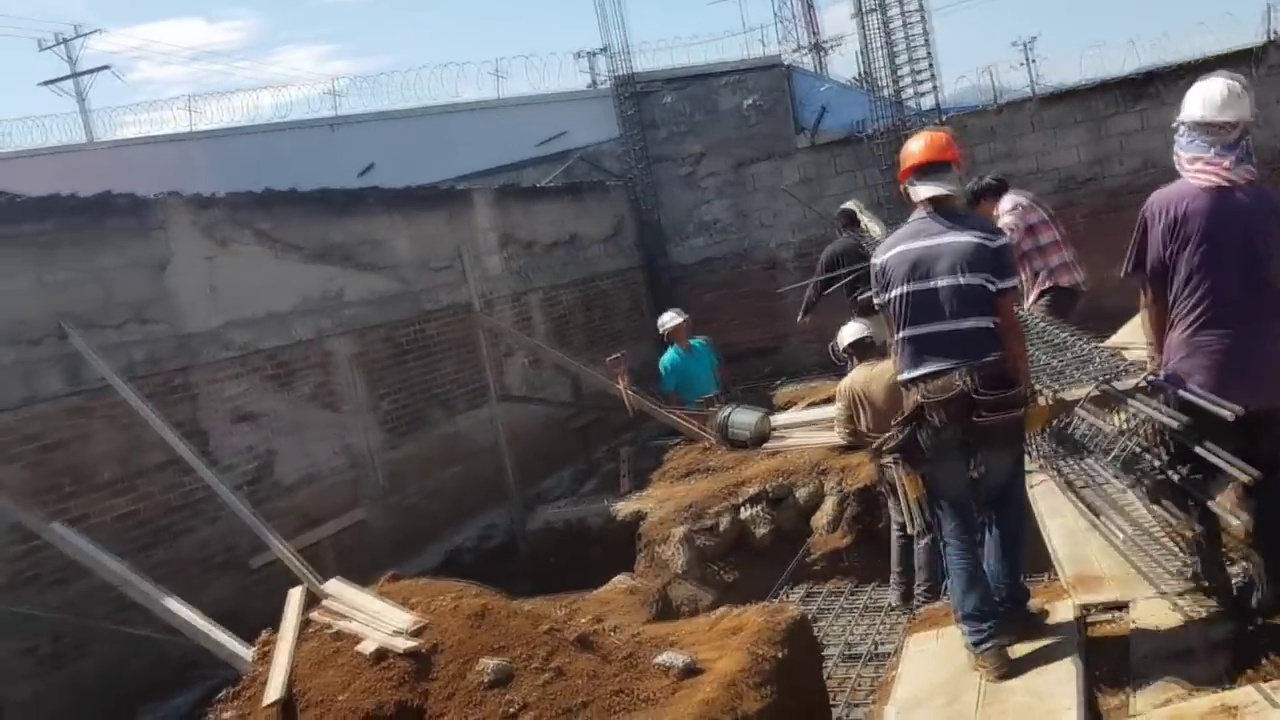helmet: (1174, 71, 1262, 130), (897, 127, 961, 184), (837, 320, 875, 357), (656, 305, 691, 339)
helmet-off: (963, 176, 1009, 228), (833, 212, 863, 238)
helmet-on: (1177, 73, 1270, 189), (898, 127, 970, 224), (838, 321, 883, 367), (656, 307, 691, 350)
person: (866, 128, 1064, 647), (1121, 60, 1276, 598), (830, 302, 936, 614), (982, 173, 1090, 325), (793, 211, 870, 323), (654, 302, 728, 405)
